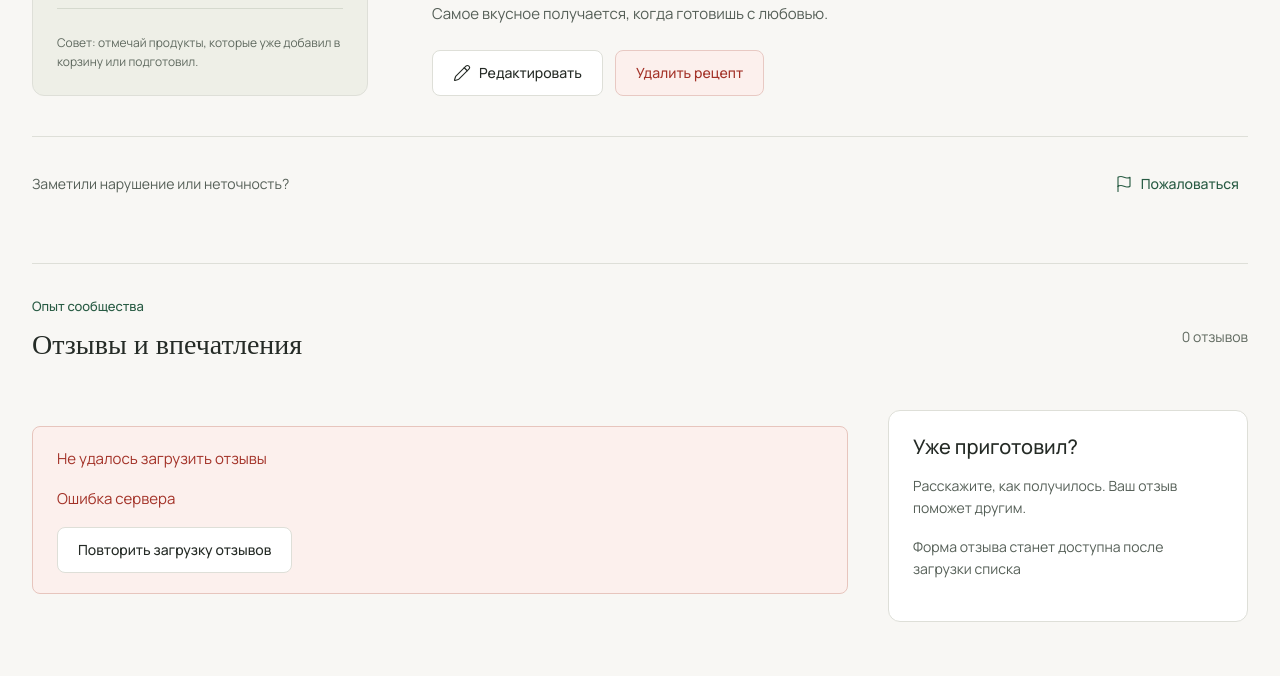
Test case: не выдаёт ошибку загрузки отзывов за пустой список и позволяет повторить
This screenshot has width=1280, height=676.
(page scrolled)
expect the message shows "Не удалось загрузить отзывы": met, box [57, 448, 267, 469]
expect the text "Пока нет отзывов" is not shown: met
Click the button "Повторить загрузку отзывов": (175, 550) [57, 527, 292, 573]
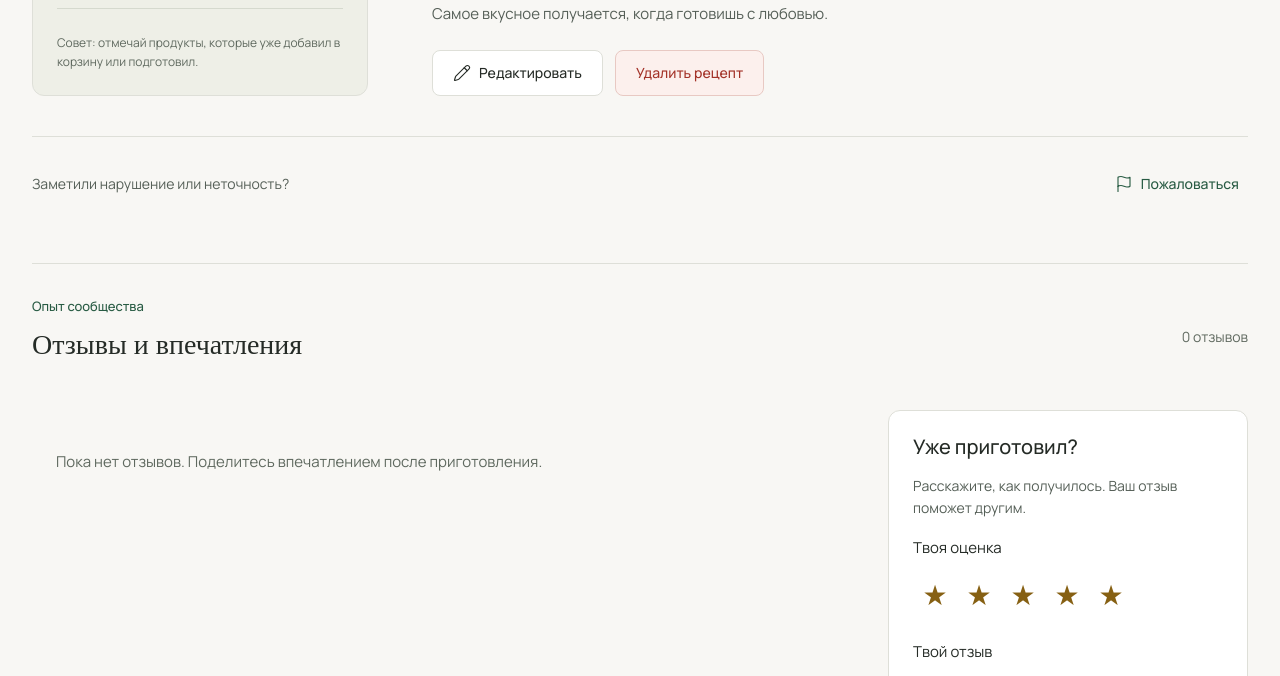
expect the text "Пока нет отзывов" is shown: met, box [56, 451, 542, 472]
